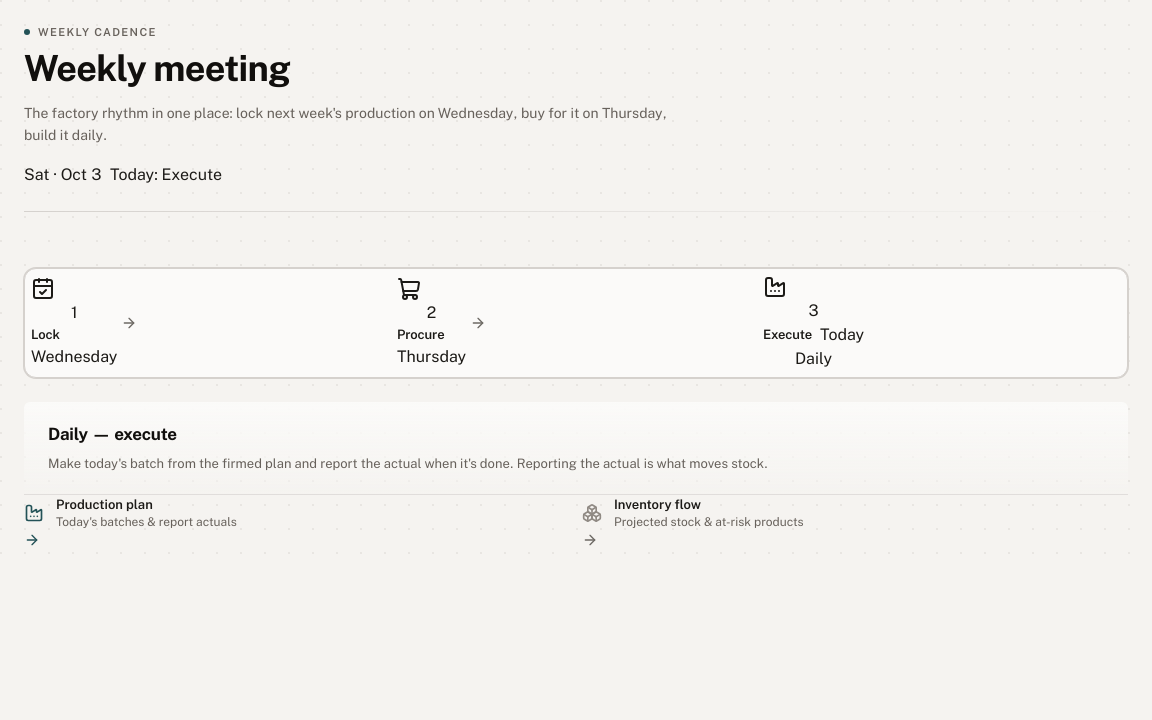
Test: weekly-meeting cockpit — firm panel a11y › disables 'Lock week' with an explanatory title when there is nothing to lock
Click the button with aria-label "Lock — Wednesday" at (74, 323), box [31, 278, 117, 369]
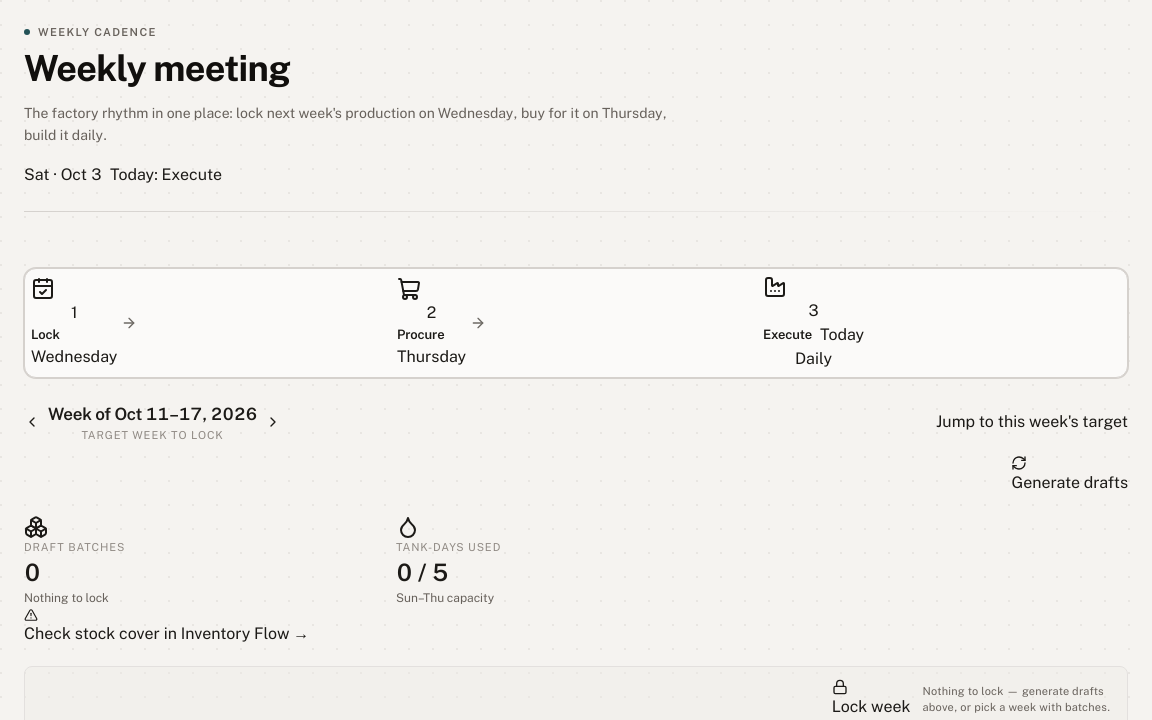
Expected: the button "Lock week" is disabled, [832, 679, 911, 719]
